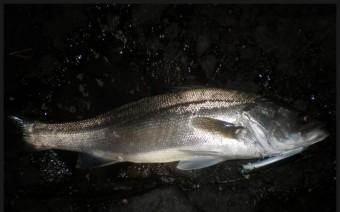fish: (9, 87, 327, 170)
